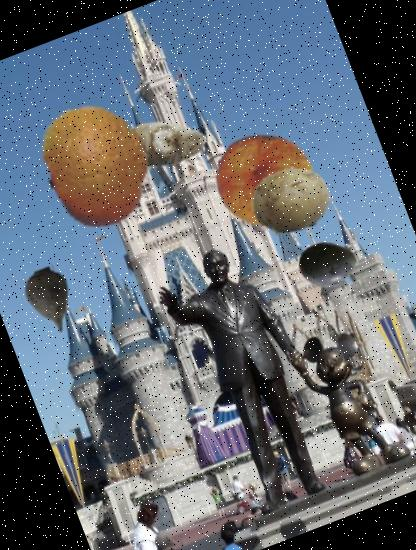Beetroot: (6, 256, 94, 344)
Ginger: (111, 90, 218, 197)
Mandarine: (16, 84, 179, 247), (200, 114, 330, 244)
Plum: (291, 228, 365, 302)
Potato: (238, 146, 344, 252)
